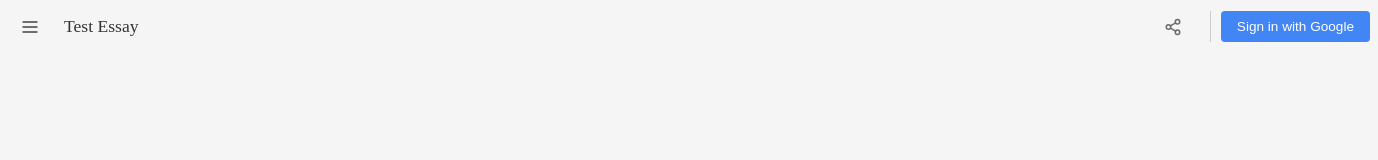
Test case: Header › Title editing › cancels editing on Escape key
Click the button "Test Essay" at (101, 26), box [52,8,150,45]
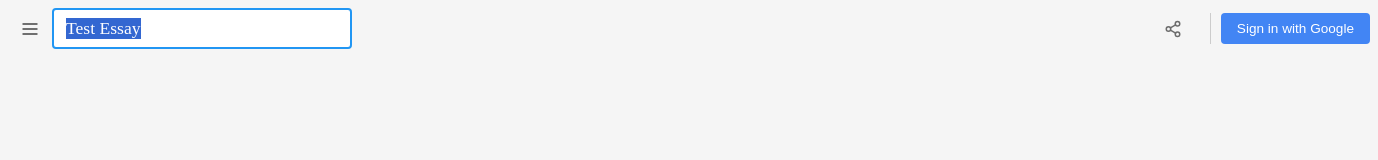
Replace the text in the field with placeholder "Essay title..." with "New Title" at (202, 28), box [52,8,352,49]
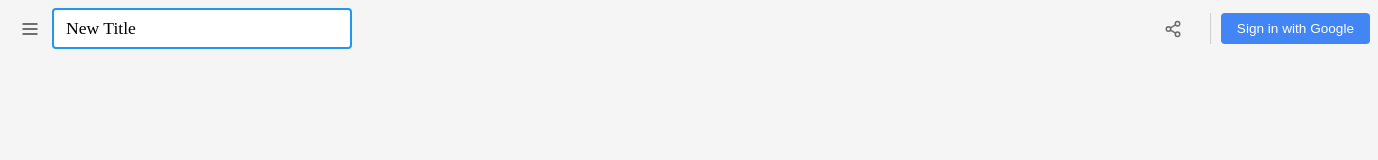
Press Escape in the field with placeholder "Essay title...", box [52,8,352,49]
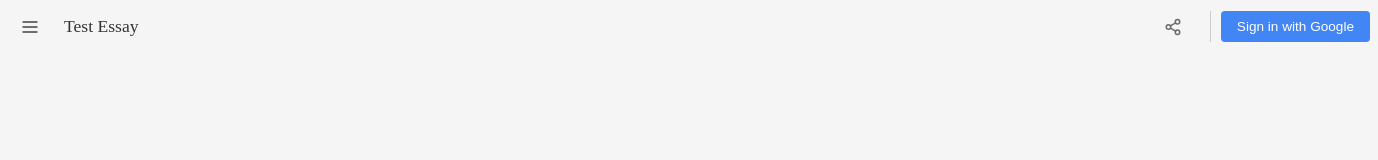
Now the button "Test Essay" is shown, box [52,8,150,45]
